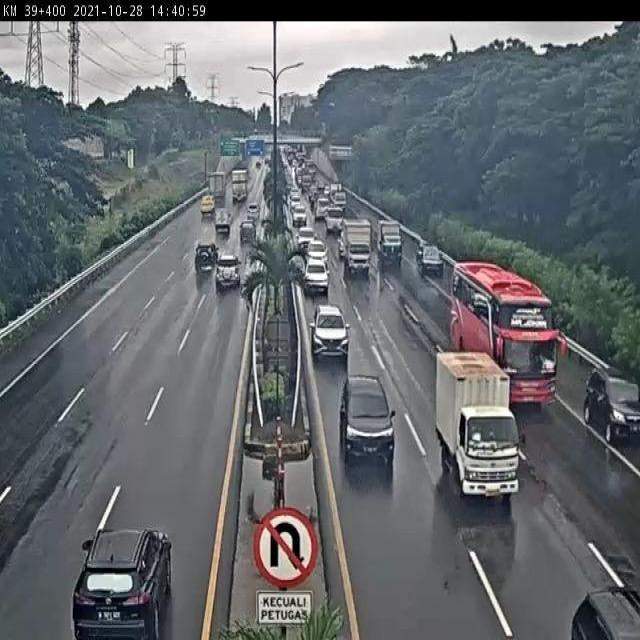big bus: (449, 260, 558, 407)
car: (71, 526, 179, 640), (338, 372, 396, 461), (584, 364, 640, 441), (310, 304, 350, 359), (213, 252, 242, 288), (302, 258, 330, 294), (416, 242, 444, 274), (193, 240, 219, 272)
mid truck: (435, 349, 521, 499)
